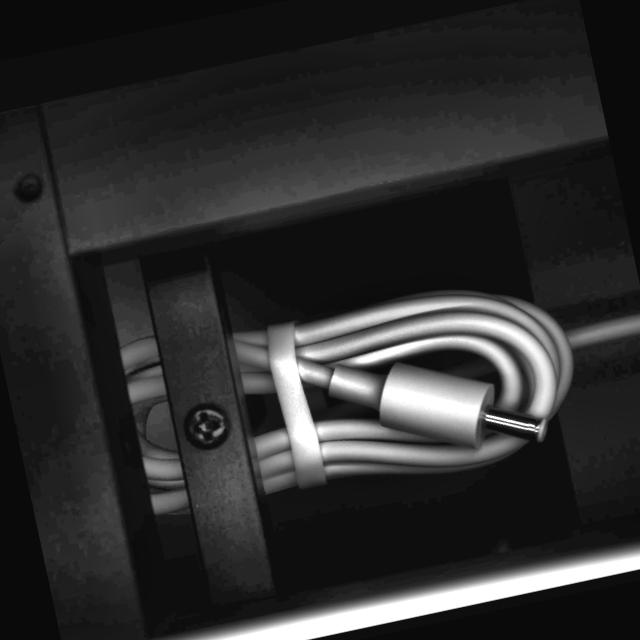Cable: (108, 196, 640, 542)
